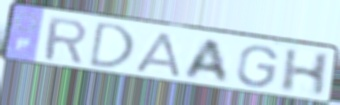A: (132, 31, 183, 80), (181, 37, 230, 85)
D: (86, 20, 138, 71)
G: (234, 44, 280, 90)
H: (278, 47, 334, 99)
R: (42, 15, 89, 67)
